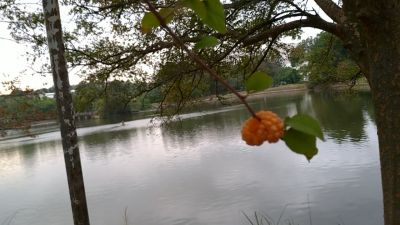eggs: (240, 109, 285, 145)
